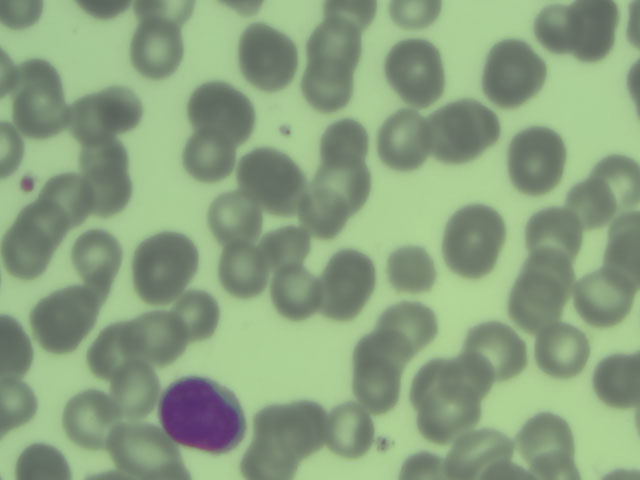Platelets: (14, 171, 41, 199), (271, 120, 300, 140), (374, 434, 397, 456)
RBC: (507, 124, 569, 195), (383, 43, 449, 100), (319, 247, 376, 310), (445, 206, 501, 270), (485, 46, 548, 102), (433, 102, 492, 161), (135, 236, 191, 292), (180, 130, 235, 183), (352, 355, 403, 411), (243, 428, 294, 480), (1, 306, 35, 384), (386, 245, 437, 296), (380, 304, 431, 355), (272, 403, 323, 454), (530, 3, 581, 54), (570, 8, 621, 59), (372, 115, 423, 166), (303, 63, 354, 114), (310, 23, 361, 74), (240, 32, 291, 83), (316, 154, 367, 205), (297, 188, 348, 239), (319, 118, 370, 169), (265, 223, 316, 274), (215, 244, 266, 295), (208, 193, 259, 244), (243, 147, 294, 198), (191, 83, 242, 134), (173, 288, 224, 339), (125, 315, 176, 366), (84, 327, 135, 378), (107, 368, 158, 419), (112, 427, 163, 478), (62, 391, 113, 442), (40, 291, 91, 342), (71, 231, 122, 282), (16, 200, 67, 251), (46, 171, 97, 222), (82, 165, 133, 216), (74, 130, 125, 181), (130, 23, 181, 74), (58, 93, 109, 144), (13, 87, 64, 138), (10, 56, 61, 107), (589, 158, 640, 209), (511, 279, 562, 330), (522, 244, 573, 295), (526, 202, 577, 253), (565, 175, 616, 226), (580, 272, 631, 323), (444, 351, 495, 402), (475, 327, 526, 378), (589, 355, 640, 406), (539, 323, 590, 374), (423, 392, 474, 443), (522, 409, 573, 460), (264, 270, 318, 318), (1, 228, 50, 279), (326, 404, 373, 457), (454, 431, 502, 480), (16, 441, 71, 480), (600, 243, 640, 293), (319, 1, 383, 32), (387, 1, 445, 35), (1, 380, 40, 429), (102, 84, 146, 127), (603, 213, 640, 260), (393, 448, 443, 480), (137, 1, 194, 26), (1, 1, 51, 29), (529, 451, 577, 480)
WBC: (161, 375, 250, 453)
